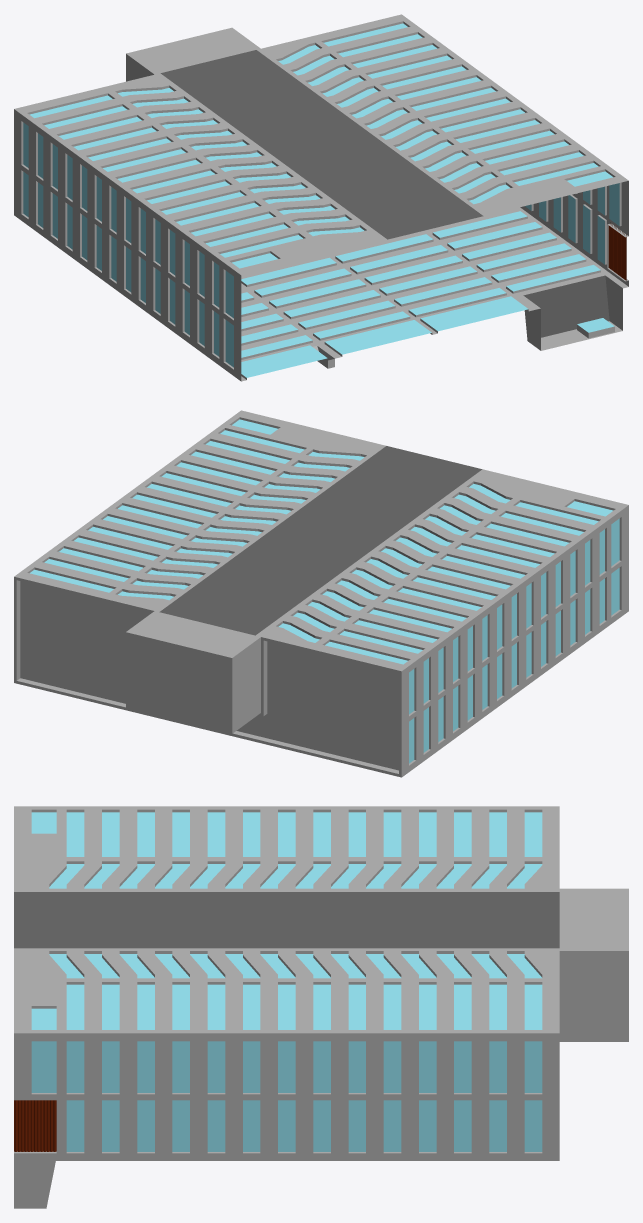
The model's file is The Shore Holiday Appartments.fbx.
3 renders of one model, top to bottom at view 1: azimuth 30°, elevation 25°; view 2: azimuth 150°, elevation 25°; view 3: azimuth 270°, elevation 25°, orthographic. The views are drawn at different scales.
Visible parts, largest first — view 1: Cube; view 2: Cube; view 3: Cube.
Part boxes in pixels (<box>): Cube: <box>14,14,628,381</box>; Cube: <box>14,410,628,777</box>; Cube: <box>14,806,628,1208</box>.
Bounding box in the file's own units: 61.08 × 22.41 × 69.86.
